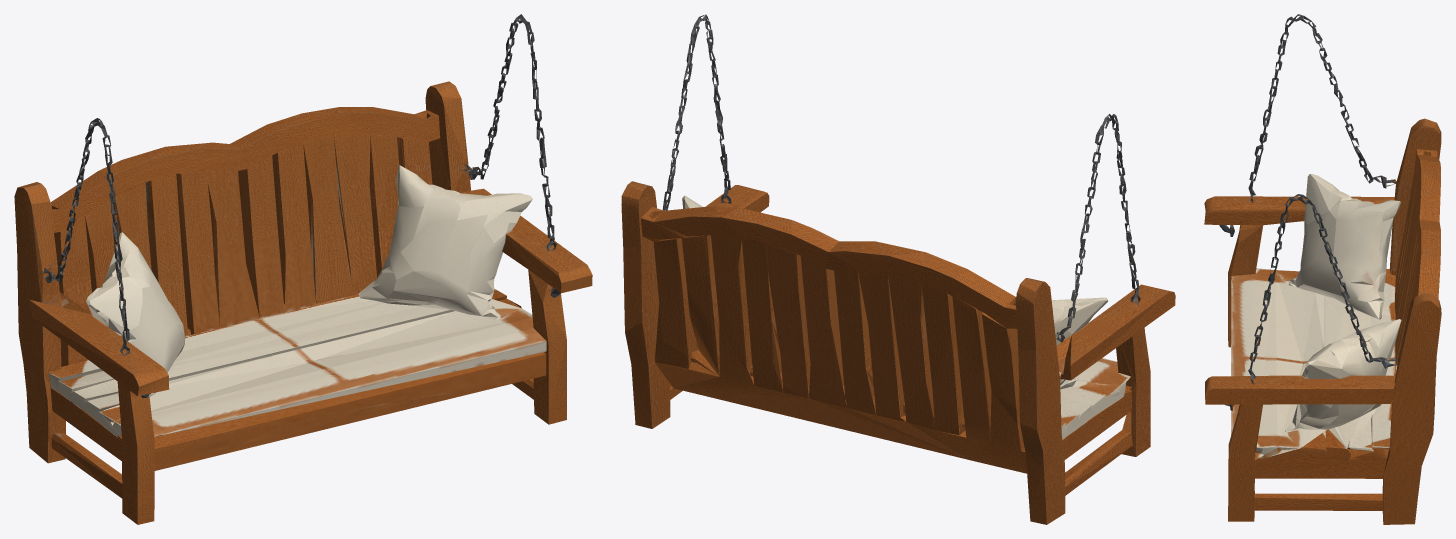
File: porch_swing.glb
The picture shows the model from 3 angles, left to right: view 1: azimuth 30°, elevation 25°; view 2: azimuth 150°, elevation 25°; view 3: azimuth 270°, elevation 25°; orthographic projection. The views are drawn at different scales.
Size of the model in its own units: 1.9 by 1.52 by 0.9885.
1 material, 1 textured.
